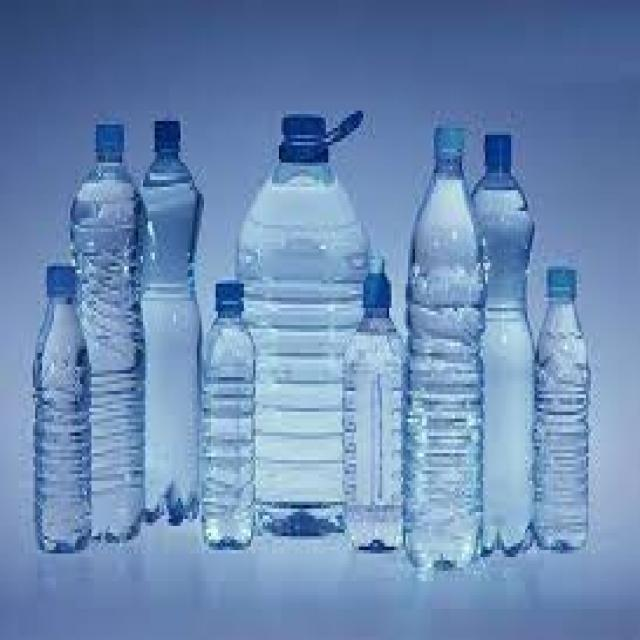Plastic: (235, 111, 372, 534), (404, 122, 484, 573), (70, 117, 144, 546), (138, 117, 204, 525), (470, 134, 532, 557), (342, 256, 408, 552), (28, 260, 92, 554), (532, 264, 592, 552), (204, 274, 257, 550)
